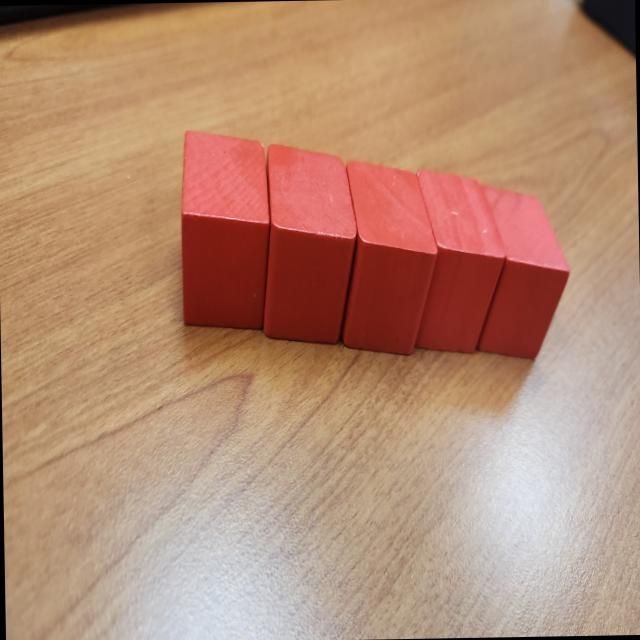red: (338, 155, 440, 359), (260, 139, 360, 346), (180, 128, 274, 332), (410, 166, 507, 354), (472, 184, 570, 361)
